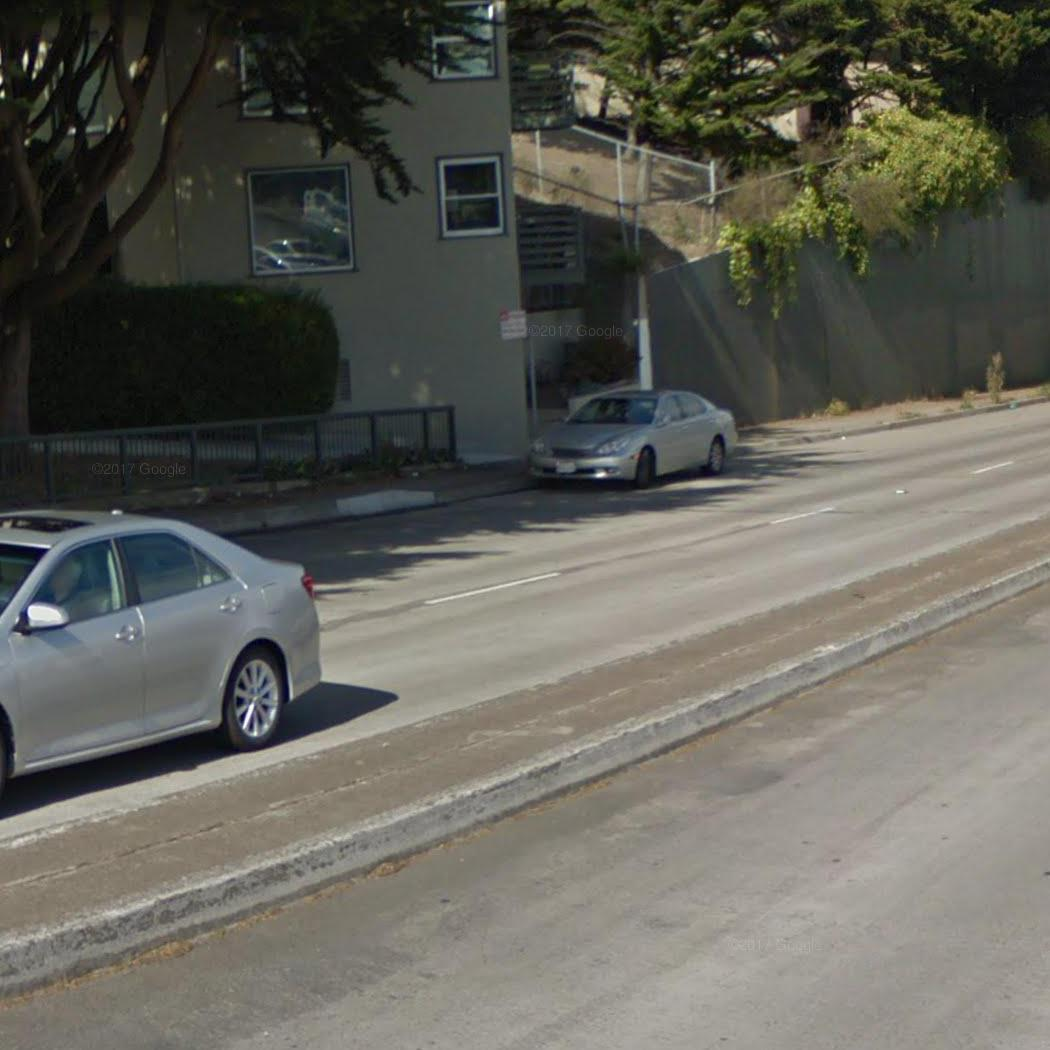No Parking: (489, 305, 534, 341)
